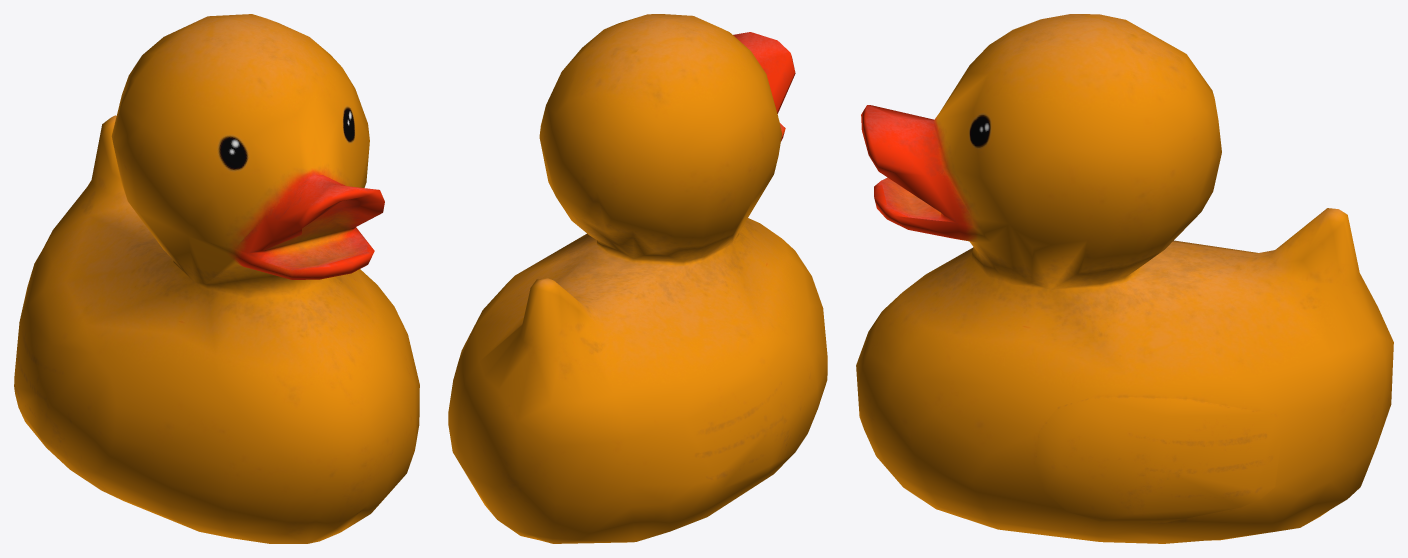
The model's file is rubber_duck_toy.glb.
The picture shows the model from 3 angles, left to right: view 1: azimuth 30°, elevation 25°; view 2: azimuth 150°, elevation 25°; view 3: azimuth 270°, elevation 25°; orthographic projection. The views are drawn at different scales.
Visible parts, largest first — view 1: rubber_duck_toy; view 2: rubber_duck_toy; view 3: rubber_duck_toy.
Boxes of the visible parts, bbox=[...] form: rubber_duck_toy: bbox=[14, 14, 419, 543]; rubber_duck_toy: bbox=[448, 14, 827, 543]; rubber_duck_toy: bbox=[856, 14, 1393, 543].
Bounding box in the file's own units: 0.2135 × 0.2855 × 0.2977.
1 material, 1 textured.
